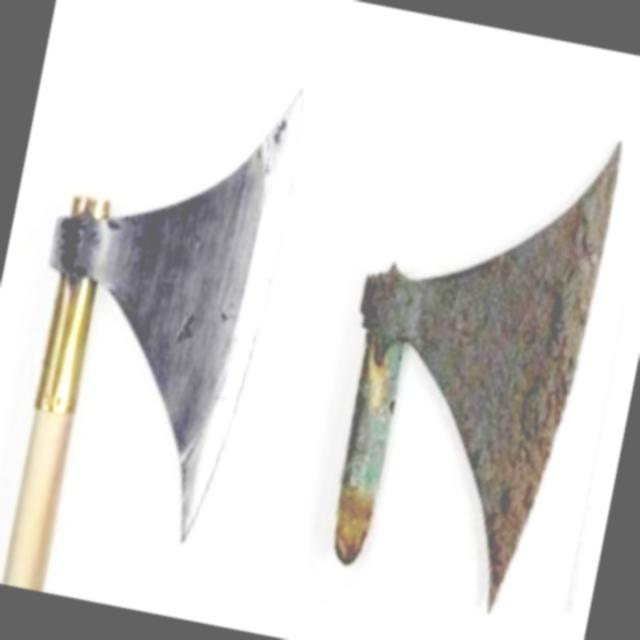ax: (0, 29, 323, 625), (297, 89, 640, 625)
